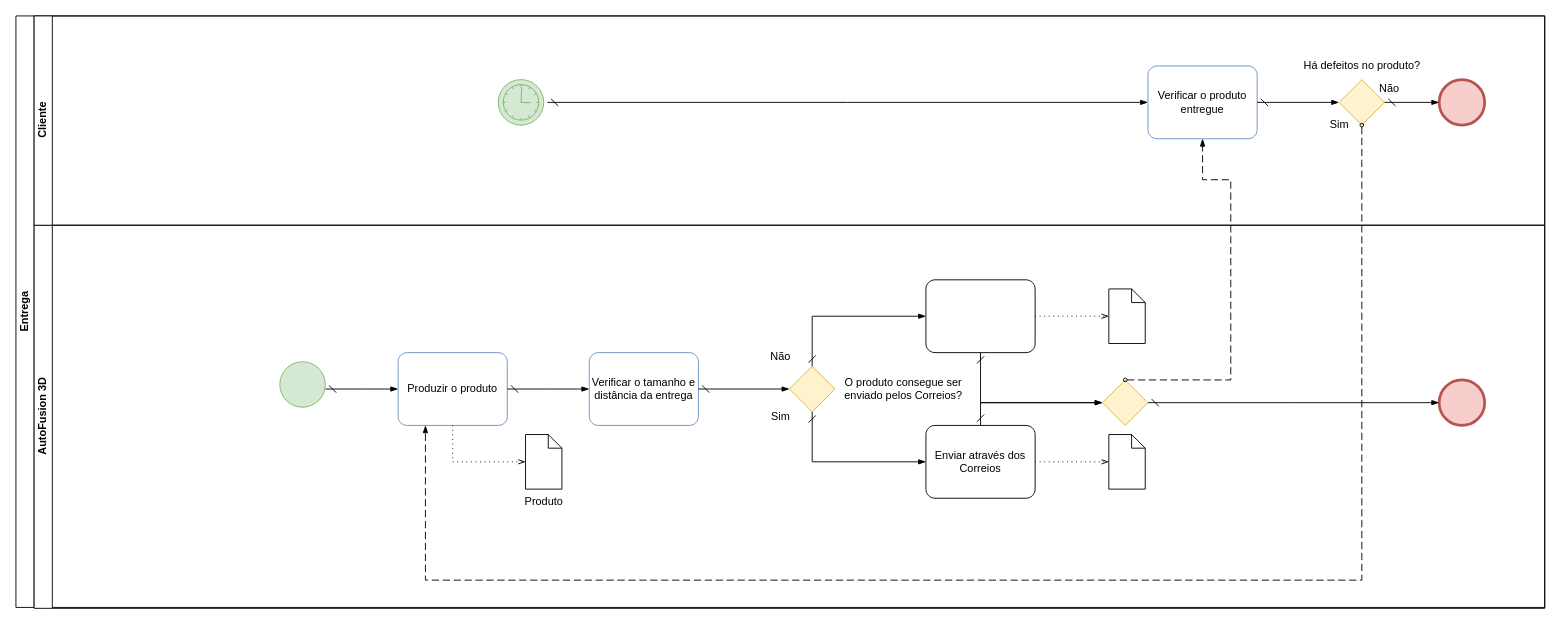
This 1561x624 diagram has some shape labels left out. The shapes that lost their labels are listed below. From the top down, each one's centre as x and y in pixels, then its label:
At [520,102]: "Prazo Estipulado".
At [980,316]: "Enviar através de uma transportadora privada".
At [1126,316]: "Formulário de envio da transportadora".
At [1126,461]: "Formulário de envio dos Correios".
